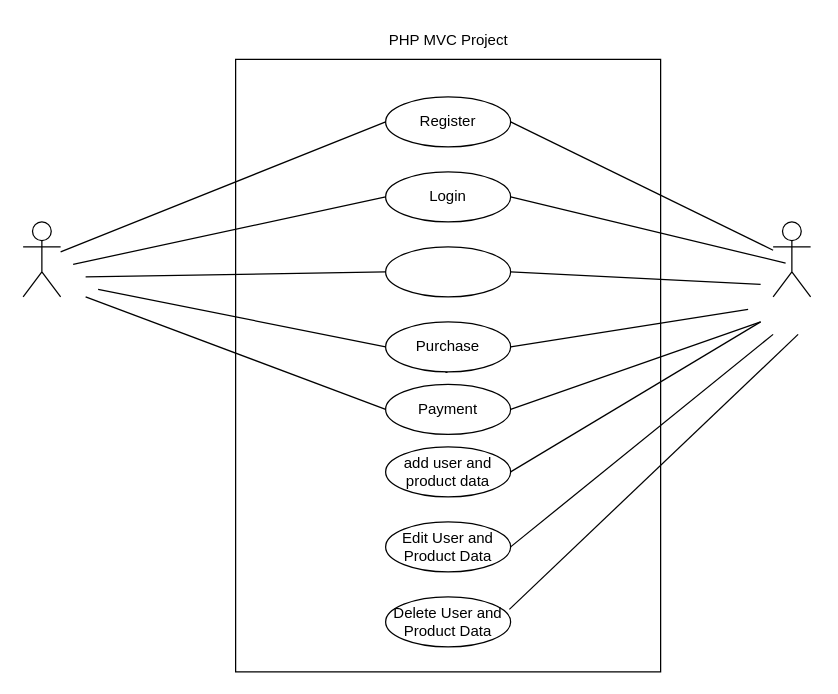
Some shapes in this 838 by 694 pixel diagram are drawn without their labels. Here are the shapes that lost their labels. From the top down, the box of each, then its label:
(22, 221, 61, 297): USER
(384, 246, 511, 297): Product Display
(772, 221, 811, 297): ADMIN
